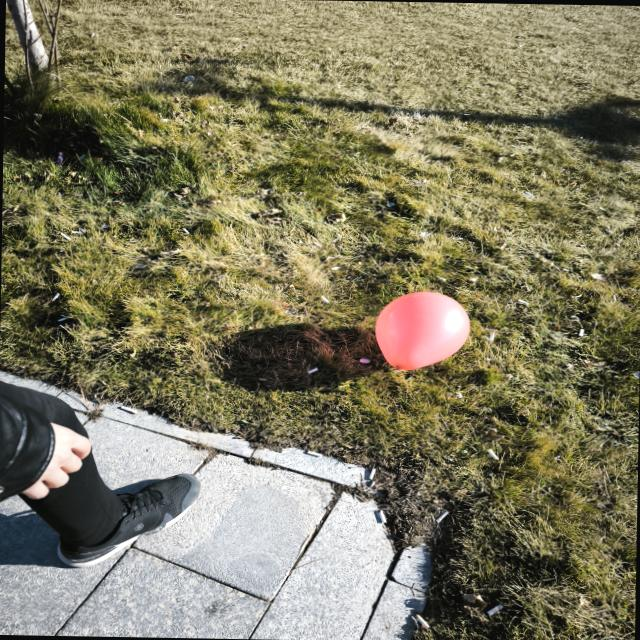balloon: (375, 285, 474, 374)
